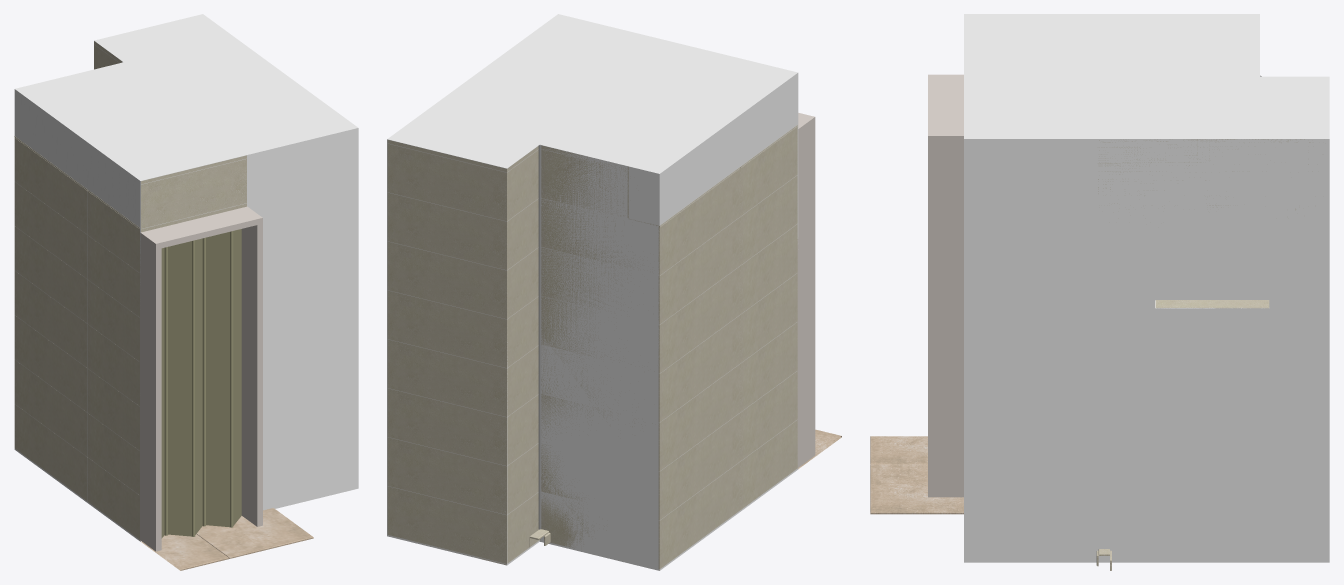
File: Ducha.glb
3 views of the same model, side by side, from view 1: azimuth 30°, elevation 25°; view 2: azimuth 150°, elevation 25°; view 3: azimuth 270°, elevation 25° (orthographic). The views are drawn at different scales.
Parts seen in each view (by area): view 1: Cube.080_29, Plane_50, Plane.001_51, Cylinder.007_46, Cube.030_7, Cube_0, Cube.081_30, Cube.020_3, Cube.078_27; view 2: Plane_50, Cube.080_29, Cube.077_26, Plane.001_51, Cube.079_28, Cube.078_27, Cube_0, Cube.030_7, Cylinder_39; view 3: Plane_50, Plane.001_51, Cube.030_7, Cube.020_3, Cube.076_25.
Part boxes in pixels (bbox=[...]): Cube.080_29: bbox=[14, 136, 139, 539]; Plane_50: bbox=[14, 41, 358, 541]; Plane.001_51: bbox=[15, 14, 358, 180]; Cylinder.007_46: bbox=[161, 229, 241, 538]; Cube.030_7: bbox=[140, 206, 262, 551]; Cube_0: bbox=[14, 89, 168, 227]; Cube.081_30: bbox=[141, 155, 246, 232]; Cube.020_3: bbox=[141, 508, 313, 570]; Cube.078_27: bbox=[94, 41, 121, 69]; Plane_50: bbox=[387, 73, 798, 570]; Cube.080_29: bbox=[627, 125, 797, 569]; Cube.077_26: bbox=[387, 140, 507, 563]; Plane.001_51: bbox=[387, 14, 797, 173]; Cube.079_28: bbox=[539, 145, 654, 548]; Cube.078_27: bbox=[507, 146, 538, 563]; Cube_0: bbox=[628, 83, 787, 225]; Cube.030_7: bbox=[797, 113, 815, 467]; Cylinder_39: bbox=[538, 144, 541, 529]; Plane_50: bbox=[964, 139, 1329, 562]; Plane.001_51: bbox=[964, 14, 1329, 138]; Cube.030_7: bbox=[928, 74, 963, 497]; Cube.020_3: bbox=[870, 436, 963, 514]; Cube.076_25: bbox=[1098, 139, 1312, 307].
Size of the model in its own units: 1.68 by 2.45 by 2.41.
20 materials, 4 textured.
